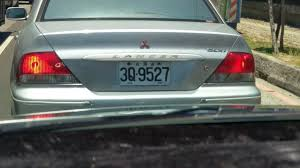LP: (118, 60, 171, 85)
